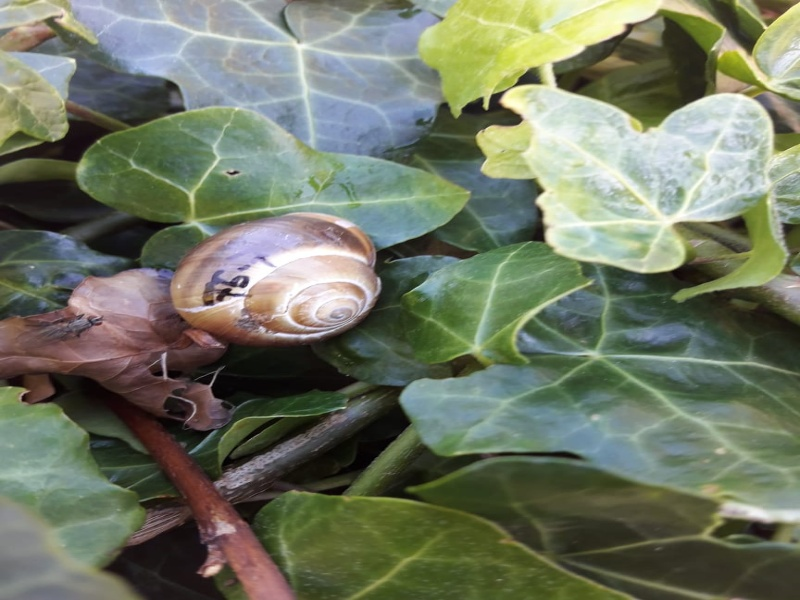snail_B_O: (166, 198, 394, 344)
